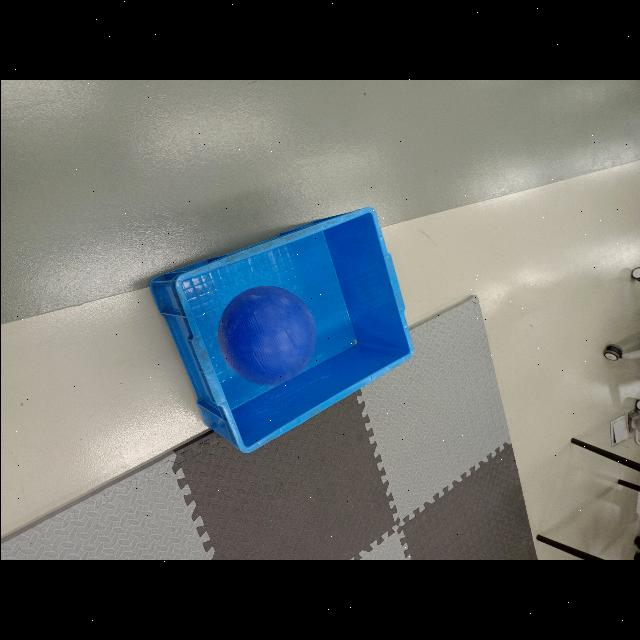B: (216, 286, 316, 384)
